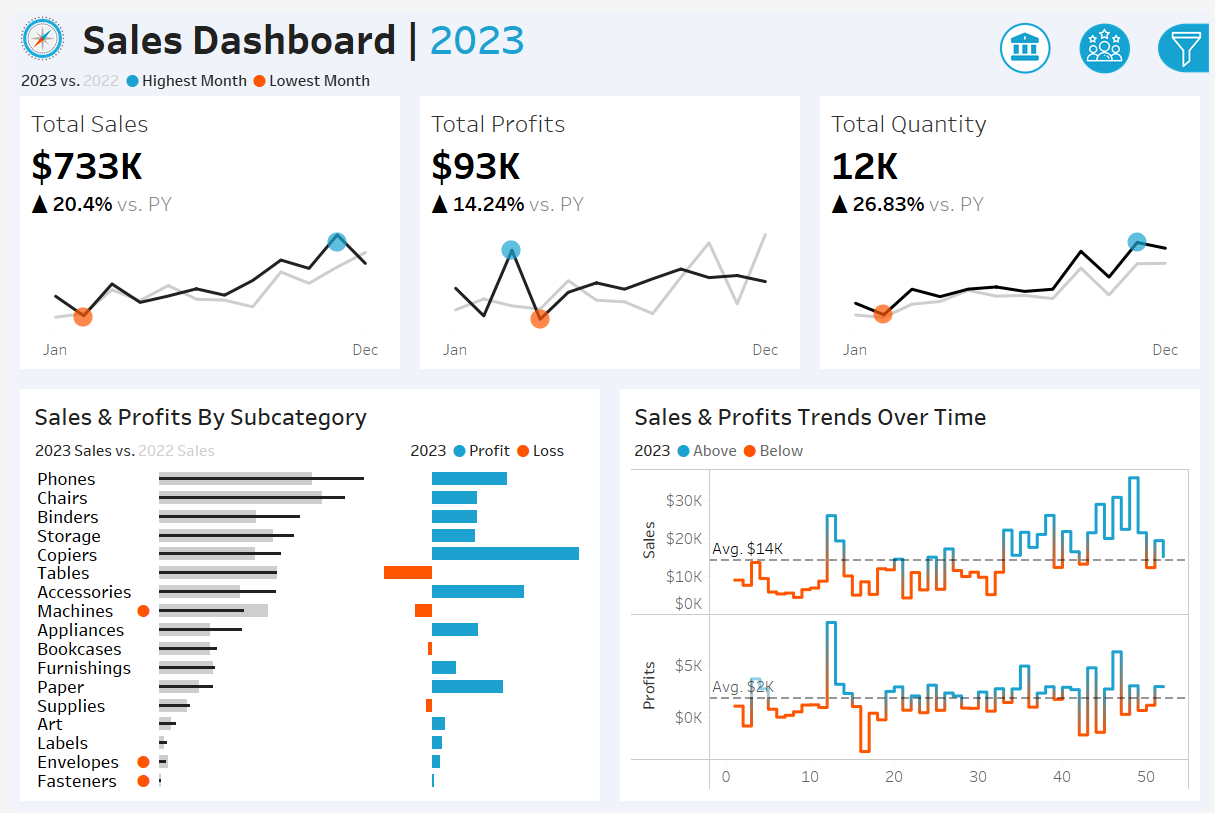

What the dashboard file says about the page in this screenshot:
{"tool":"tableau","page":{"name":"Sales Dashboard","canvas":[1200,800],"ordinal":1},"visuals":[{"type":"image","param":"Image/Icon - Logo.png","box":[0,0,65,54]},{"type":"text","box":[65,0,864,54]},{"type":"dashboard-object","box":[976,7,79,60]},{"type":"dashboard-object","box":[1055,7,78,60]},{"type":"blank","box":[989,10,200,83]},{"type":"worksheet","title":"Legend KPI","mark":"Automatic","box":[0,54,1200,31]},{"type":"worksheet","title":"KPI Sales","mark":"Automatic","rows":["Calculation_616993189313429508"],"cols":["Order Date"],"box":[0,85,400,283]},{"type":"worksheet","title":"KPI Profits","mark":"Line","rows":["Calculation_973340510911229961"],"cols":["Order Date"],"box":[400,85,400,283]},{"type":"worksheet","title":"KPI Quantity","mark":"Automatic","rows":["Min/Max Profits (copy)_825566148404719620"],"cols":["Order Date"],"box":[800,85,400,283]},{"type":"text","box":[989,93,200,40]},{"type":"parameter","param":"[Parameters].[Parameter 1]","box":[989,133,200,56]},{"type":"blank","box":[989,189,200,60]},{"type":"text","box":[989,249,200,33]},{"type":"filter","title":"KPI Sales","param":"[federated.13cwdnl1msok7q1at9ooc1g9il87].[none:Category:nk]","box":[989,282,200,61]},{"type":"filter","title":"KPI Sales","param":"[federated.13cwdnl1msok7q1at9ooc1g9il87].[none:Sub-Category:nk]","box":[989,343,200,61]},{"type":"text","box":[17,385,566,40]},{"type":"text","box":[617,385,566,40]},{"type":"text","box":[989,404,200,33]},{"type":"worksheet","title":"Legend Subcategory","mark":"Automatic","box":[17,425,376,29]},{"type":"text","box":[393,425,190,29]},{"type":"text","box":[617,425,566,29]},{"type":"filter","title":"KPI Sales","param":"[federated.13cwdnl1msok7q1at9ooc1g9il87].[none:Region:nk]","box":[989,437,200,61]},{"type":"worksheet","title":"Subcategory Comparison","mark":"Bar","rows":["Sub-Category","Calculation_825566148925861898"],"cols":["CY Sales (copy)_616993189220630529","Calculation_616993189220265984","Calculation_973340510903701510"],"box":[17,454,566,329]},{"type":"worksheet","title":"Weekly Trends","mark":"Automatic","rows":["Calculation_616993189220265984","Calculation_973340510903701510"],"cols":["Order Date"],"box":[617,454,566,329]},{"type":"filter","title":"KPI Sales","param":"[federated.13cwdnl1msok7q1at9ooc1g9il87].[none:State:nk]","box":[989,498,200,61]},{"type":"filter","title":"KPI Sales","param":"[federated.13cwdnl1msok7q1at9ooc1g9il87].[none:City:nk]","box":[989,559,200,61]}]}

Visuals, with their boxes in screenshot pixels (x1, y1, x2, y2), scaled from the page's 1200x800 canvas onto the 1215x813 screenshot:
image: (0, 0, 66, 55)
text: (66, 0, 941, 55)
dashboard-object: (988, 7, 1068, 68)
dashboard-object: (1068, 7, 1147, 68)
blank: (1001, 10, 1204, 95)
"Legend KPI" worksheet: (0, 55, 1214, 86)
"KPI Sales" worksheet: (0, 86, 405, 374)
"KPI Profits" worksheet (Line marks): (405, 86, 810, 374)
"KPI Quantity" worksheet: (810, 86, 1214, 374)
text: (1001, 95, 1204, 135)
parameter: (1001, 135, 1204, 192)
blank: (1001, 192, 1204, 253)
text: (1001, 253, 1204, 287)
"KPI Sales" filter: (1001, 287, 1204, 349)
"KPI Sales" filter: (1001, 349, 1204, 411)
text: (17, 391, 590, 432)
text: (625, 391, 1198, 432)
text: (1001, 411, 1204, 444)
"Legend Subcategory" worksheet: (17, 432, 398, 461)
text: (398, 432, 590, 461)
text: (625, 432, 1198, 461)
"KPI Sales" filter: (1001, 444, 1204, 506)
"Subcategory Comparison" worksheet (Bar marks): (17, 461, 590, 796)
"Weekly Trends" worksheet: (625, 461, 1198, 796)
"KPI Sales" filter: (1001, 506, 1204, 568)
"KPI Sales" filter: (1001, 568, 1204, 630)
